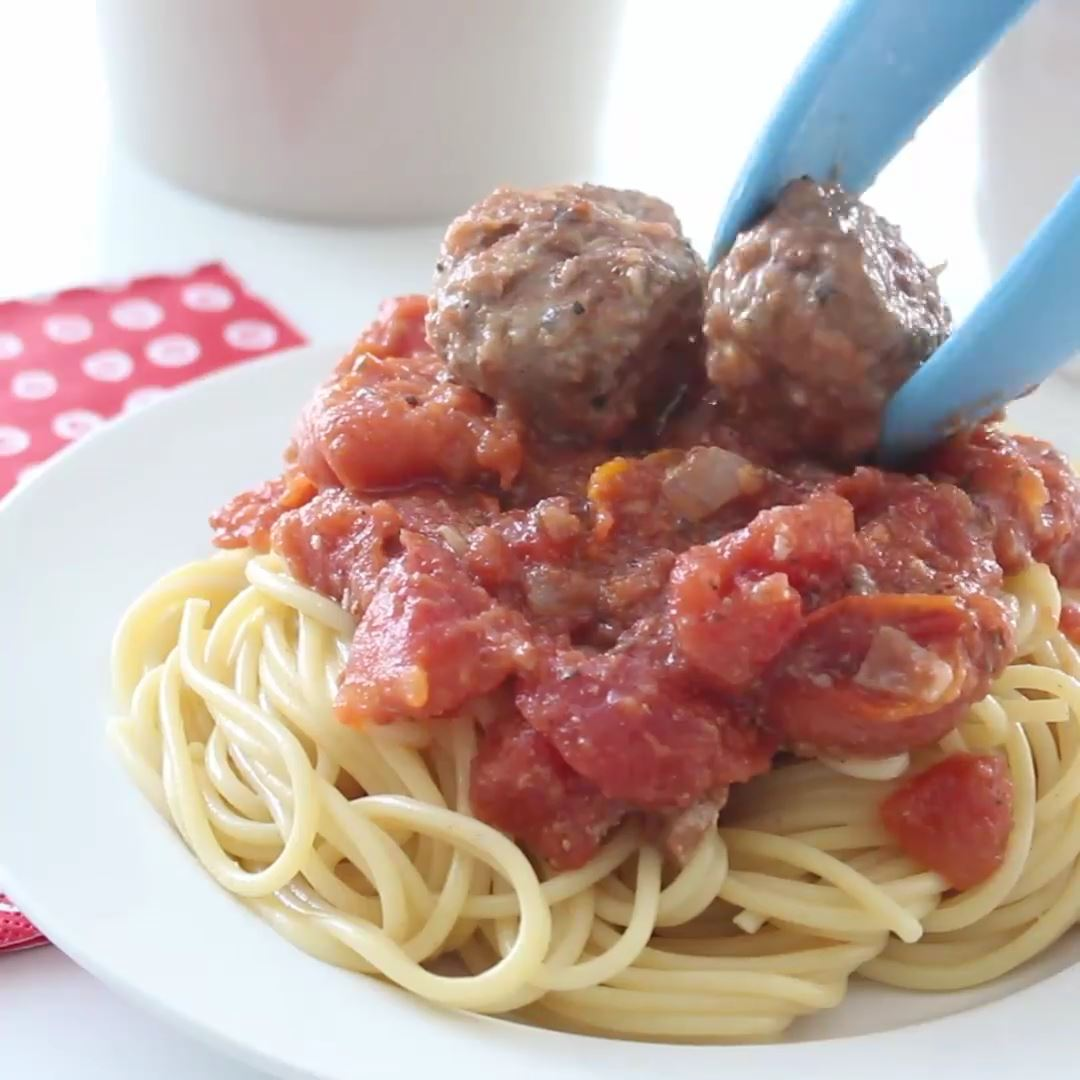meatballs: (428, 184, 718, 403), (699, 193, 949, 447)
plain spaghetti: (135, 569, 1080, 1025)
